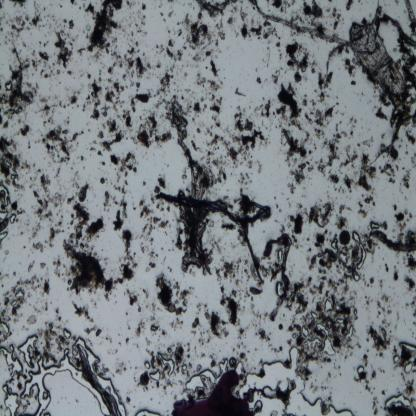Air bubble: (232, 349, 353, 415), (24, 354, 109, 414), (184, 358, 228, 393), (16, 332, 38, 368), (0, 340, 21, 376), (317, 323, 336, 356), (2, 382, 20, 416), (352, 230, 368, 268), (384, 392, 412, 409), (159, 351, 176, 375), (132, 406, 162, 415), (262, 385, 276, 400), (401, 361, 415, 376), (397, 343, 416, 353), (148, 369, 162, 381), (346, 322, 355, 340), (369, 219, 380, 231), (0, 230, 11, 242), (300, 326, 310, 339), (0, 320, 10, 333), (275, 280, 283, 296), (234, 362, 244, 374), (328, 236, 338, 248), (338, 251, 347, 262), (8, 212, 16, 224), (324, 302, 332, 314), (356, 364, 365, 374), (352, 271, 360, 282), (392, 354, 400, 364), (143, 361, 151, 369), (310, 310, 317, 318), (336, 317, 344, 323), (291, 332, 297, 339), (182, 365, 187, 370)
Background material: (348, 6, 416, 132), (287, 301, 359, 391), (198, 116, 263, 193), (159, 366, 249, 415), (57, 236, 114, 301), (0, 44, 37, 126), (77, 0, 124, 58), (30, 177, 69, 246), (280, 126, 318, 192), (1, 278, 52, 323), (70, 182, 106, 239), (139, 200, 168, 266), (154, 271, 194, 318), (0, 134, 32, 188), (218, 284, 248, 340), (104, 47, 146, 86), (276, 80, 308, 130), (377, 14, 416, 54), (42, 124, 80, 165), (183, 12, 214, 61), (284, 40, 316, 84), (103, 184, 132, 231), (306, 232, 337, 274), (160, 74, 186, 124), (317, 132, 347, 174), (138, 115, 174, 148), (241, 16, 280, 46), (311, 272, 350, 302), (119, 228, 138, 282), (203, 306, 232, 341), (287, 278, 313, 315), (52, 30, 76, 70), (364, 326, 393, 358), (357, 150, 378, 193), (377, 126, 401, 163), (44, 324, 70, 358), (306, 106, 338, 133), (82, 79, 102, 122), (214, 262, 251, 284), (181, 87, 208, 116), (196, 0, 238, 18), (110, 153, 139, 179), (128, 2, 148, 39), (101, 120, 124, 150), (102, 84, 126, 112), (206, 82, 224, 118), (309, 202, 333, 229), (317, 69, 335, 105), (374, 294, 394, 324), (6, 13, 27, 39), (0, 186, 13, 228), (278, 377, 296, 407), (392, 204, 412, 231), (38, 94, 57, 122), (69, 300, 93, 322), (173, 344, 194, 369), (340, 146, 360, 172), (286, 211, 307, 235), (300, 0, 324, 21), (128, 92, 152, 112), (148, 312, 168, 336), (342, 58, 358, 86), (119, 109, 140, 130), (31, 61, 54, 80), (357, 371, 377, 392), (166, 37, 182, 63), (335, 202, 349, 230), (60, 91, 80, 110), (211, 20, 228, 42), (272, 0, 299, 13), (404, 1, 416, 30), (51, 258, 66, 280), (124, 286, 139, 308), (380, 162, 396, 182), (400, 378, 416, 398), (403, 273, 416, 296), (374, 104, 389, 123), (404, 297, 416, 320), (246, 282, 261, 300), (256, 327, 272, 343), (331, 9, 342, 32), (174, 224, 184, 248), (30, 13, 46, 28), (400, 167, 410, 191), (218, 219, 235, 233), (138, 372, 151, 390), (84, 325, 102, 338), (292, 234, 305, 252), (207, 58, 218, 79), (343, 174, 355, 193), (400, 348, 412, 367), (403, 128, 416, 145), (259, 98, 272, 115), (356, 201, 369, 218), (194, 70, 206, 88), (62, 16, 76, 30), (11, 200, 24, 215), (190, 318, 202, 334), (370, 395, 380, 414), (148, 346, 156, 369), (31, 239, 44, 253), (328, 170, 341, 184), (232, 87, 247, 99), (134, 320, 145, 336), (347, 114, 358, 130), (154, 177, 166, 191), (170, 318, 184, 330), (145, 60, 161, 70), (406, 255, 416, 271), (37, 50, 50, 62), (364, 195, 376, 208), (362, 134, 373, 148), (154, 43, 165, 57), (20, 124, 31, 138), (54, 305, 62, 324), (36, 260, 48, 272), (10, 0, 28, 8), (361, 295, 373, 306), (25, 260, 35, 273), (208, 355, 217, 369), (378, 220, 389, 231), (376, 277, 384, 292), (393, 266, 400, 283), (239, 8, 248, 21), (268, 344, 282, 352), (123, 392, 131, 406), (410, 151, 416, 169), (362, 352, 370, 365), (238, 350, 249, 359), (97, 128, 104, 141), (272, 70, 278, 84), (254, 74, 262, 83), (376, 366, 384, 374), (99, 176, 107, 184), (278, 324, 285, 332), (369, 277, 375, 285), (86, 71, 92, 79), (176, 30, 182, 38), (66, 69, 72, 76), (97, 149, 102, 157), (78, 156, 86, 161), (126, 334, 130, 344), (385, 263, 389, 273), (14, 269, 18, 277), (160, 12, 164, 17), (102, 162, 106, 166)
Cellulose filter fibre: (254, 3, 352, 52), (77, 344, 121, 415), (260, 235, 292, 320), (174, 115, 198, 196), (368, 228, 416, 254)
Cotton: (156, 189, 268, 279)
Diatom: (338, 229, 352, 247), (390, 148, 398, 159)
